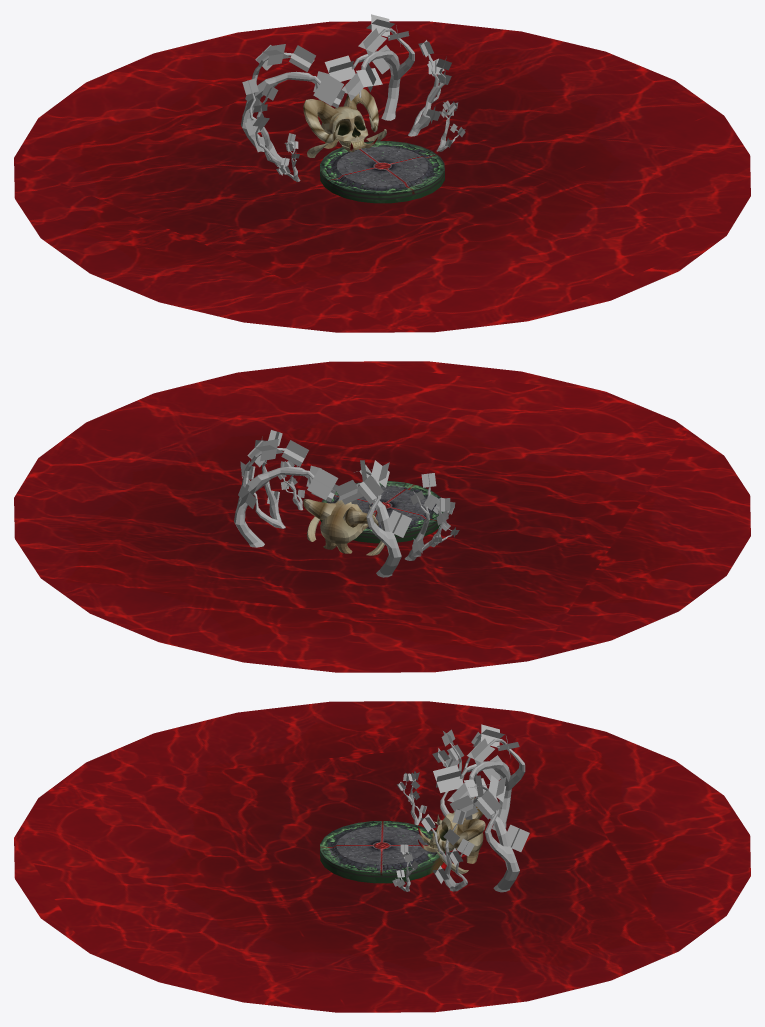
Rendered from Arene_lilith.fbx.
3 renders of one model, top to bottom at view 1: azimuth 30°, elevation 25°; view 2: azimuth 150°, elevation 25°; view 3: azimuth 270°, elevation 25°, orthographic.
Visible parts, largest first — view 1: polySurface_crane1; view 2: polySurface_crane1; view 3: polySurface_crane1.
Part boxes in pixels (<box>): polySurface_crane1: <box>14,14,750,332</box>; polySurface_crane1: <box>14,361,750,672</box>; polySurface_crane1: <box>14,701,750,1012</box>.
Bounding box in the file's own units: 114 × 19.8 × 114.
